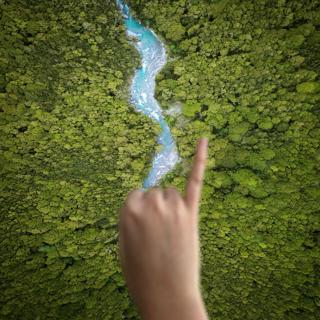FINE: (112, 132, 210, 296)
